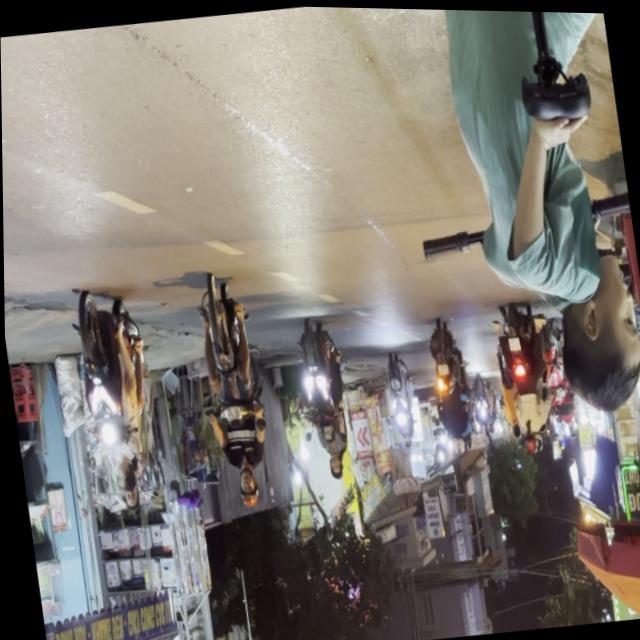helmet: (234, 467, 259, 509)
licenseplate: (64, 284, 165, 516), (186, 270, 276, 513)
motorcyclist: (114, 456, 136, 491), (119, 481, 139, 510)
